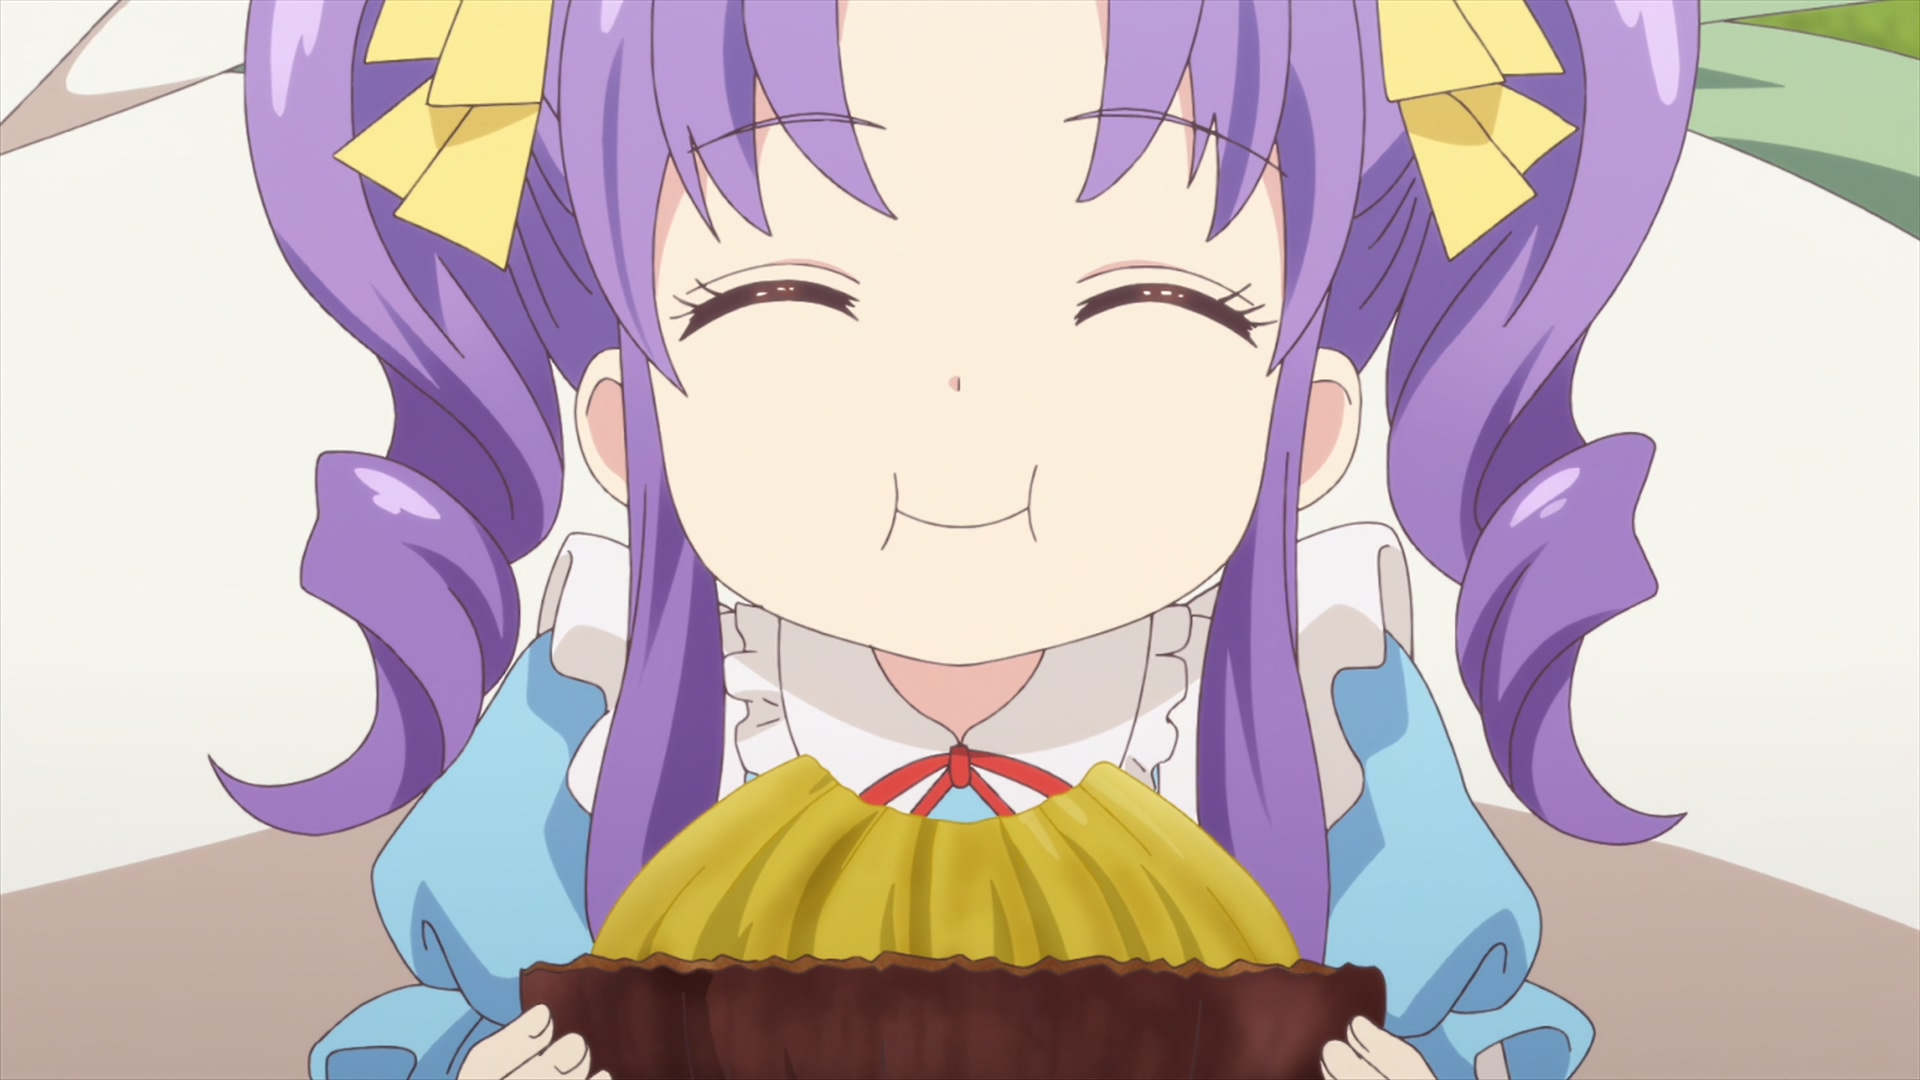阿菊: (207, 1, 1700, 1080)
